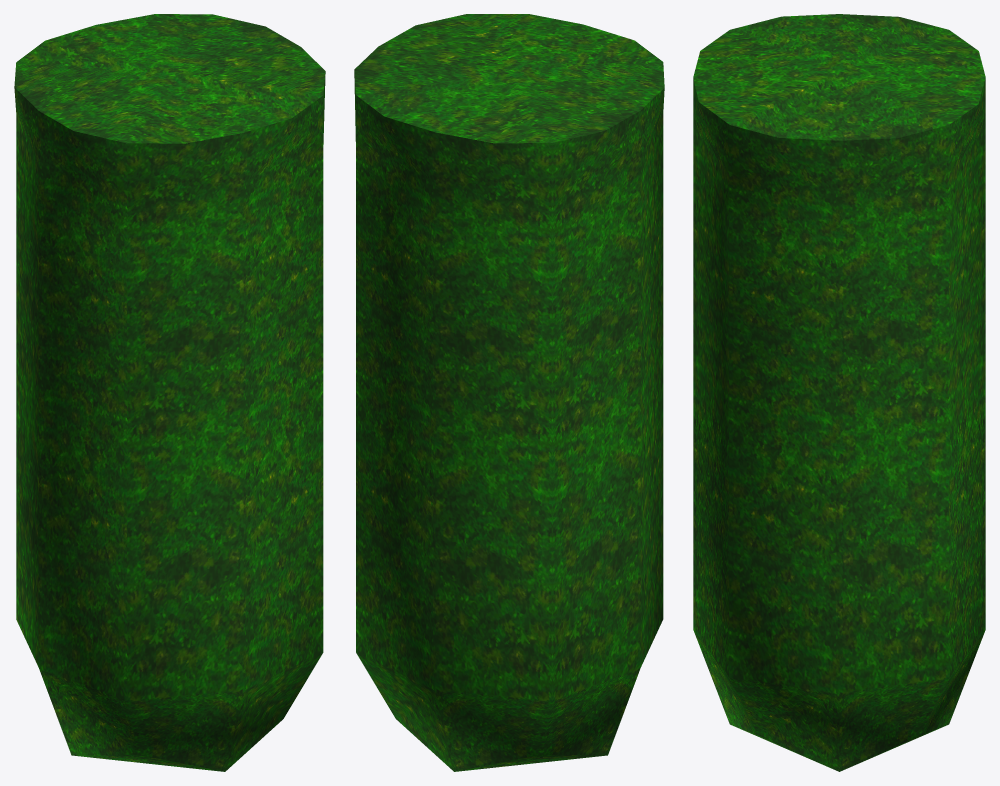
Rendered from INST_HTOWN_CLIFFPIECEC.fbx.
3 renders of one model, left to right at view 1: azimuth 30°, elevation 25°; view 2: azimuth 150°, elevation 25°; view 3: azimuth 270°, elevation 25°, orthographic.
Parts seen in each view (by area): view 1: INST_HTOWN_CLIFFPIECEC; view 2: INST_HTOWN_CLIFFPIECEC; view 3: INST_HTOWN_CLIFFPIECEC.
Boxes of the visible parts, box(x1,y1,x2,y2) form: INST_HTOWN_CLIFFPIECEC: box(14, 14, 325, 771); INST_HTOWN_CLIFFPIECEC: box(354, 14, 664, 771); INST_HTOWN_CLIFFPIECEC: box(693, 14, 985, 771).
Bounding box in the file's own units: 30058 × 74818 × 29296.
Materials: 1 (1 with a texture image).
